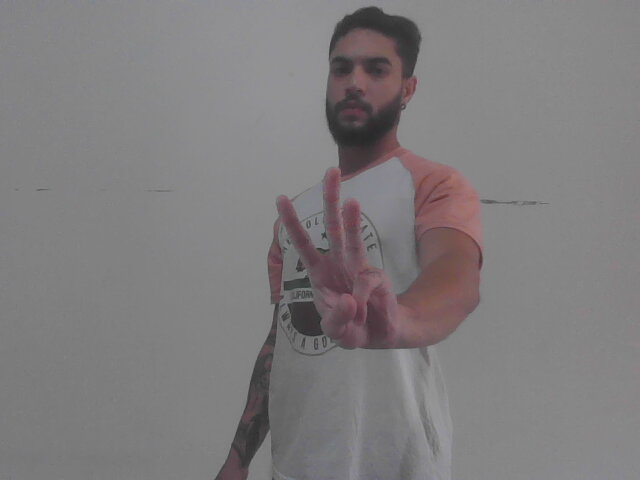w: (267, 162, 404, 356)
